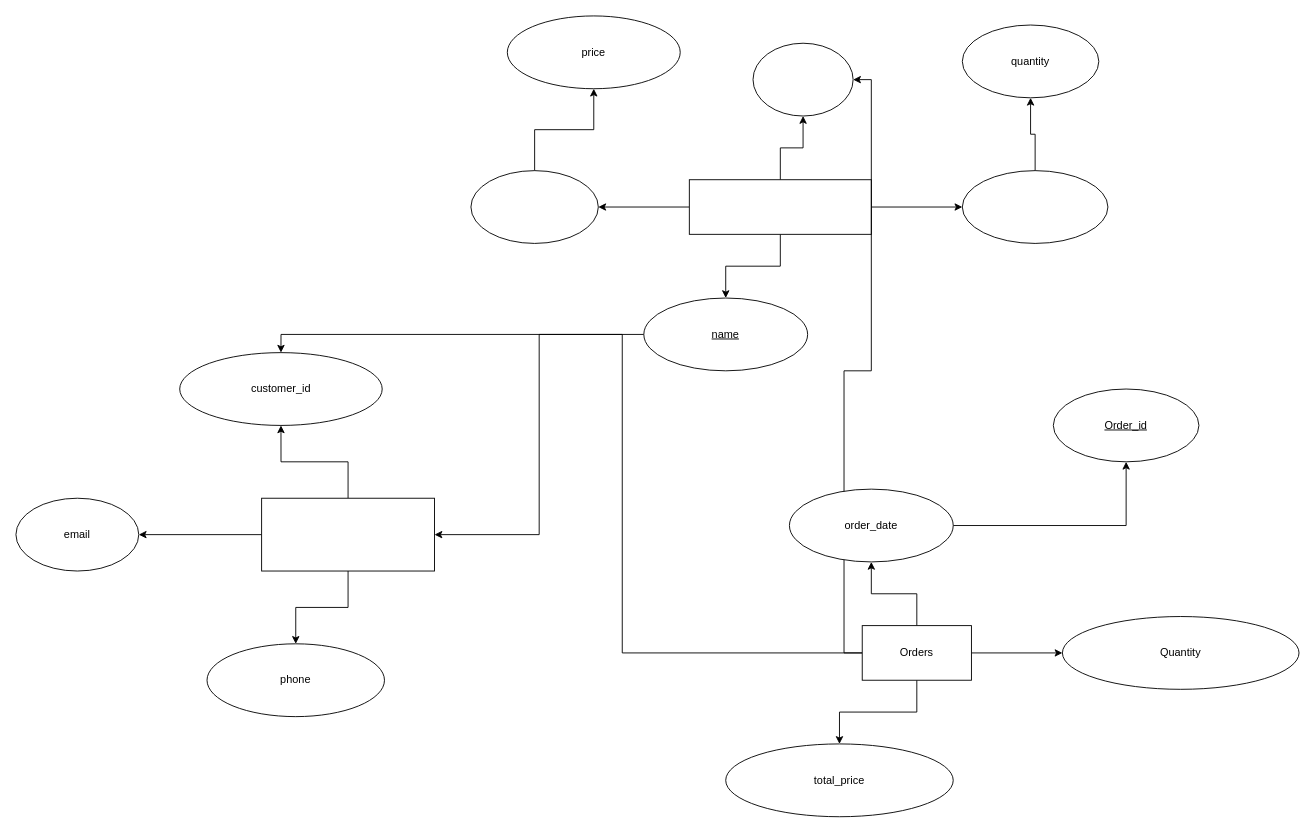
The diagram is 1315 pixels wide and 833 high, and some of its shapes have lost their labels. The box of each missing label's shape, as (x1, y1, x2, y2) in pixels:
brand: (470, 170, 598, 243)
category: (961, 170, 1108, 243)
Customer: (261, 497, 435, 571)
Products: (688, 179, 871, 234)
Sku: (752, 42, 853, 116)
